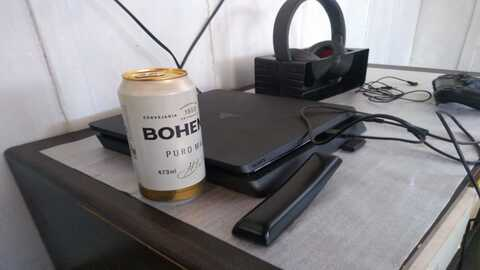bohemia: (117, 72, 216, 203)
